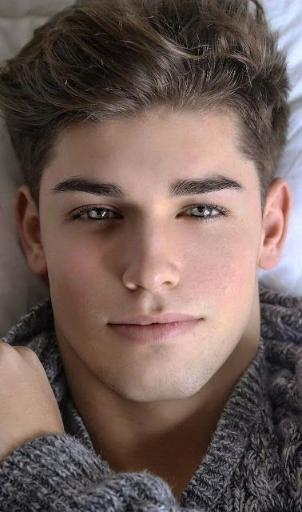left_eye: (175, 204, 232, 235)
left_lip_corner: (190, 308, 212, 338)
right_eye: (64, 206, 126, 234)
right_lip_corner: (104, 317, 120, 337)
